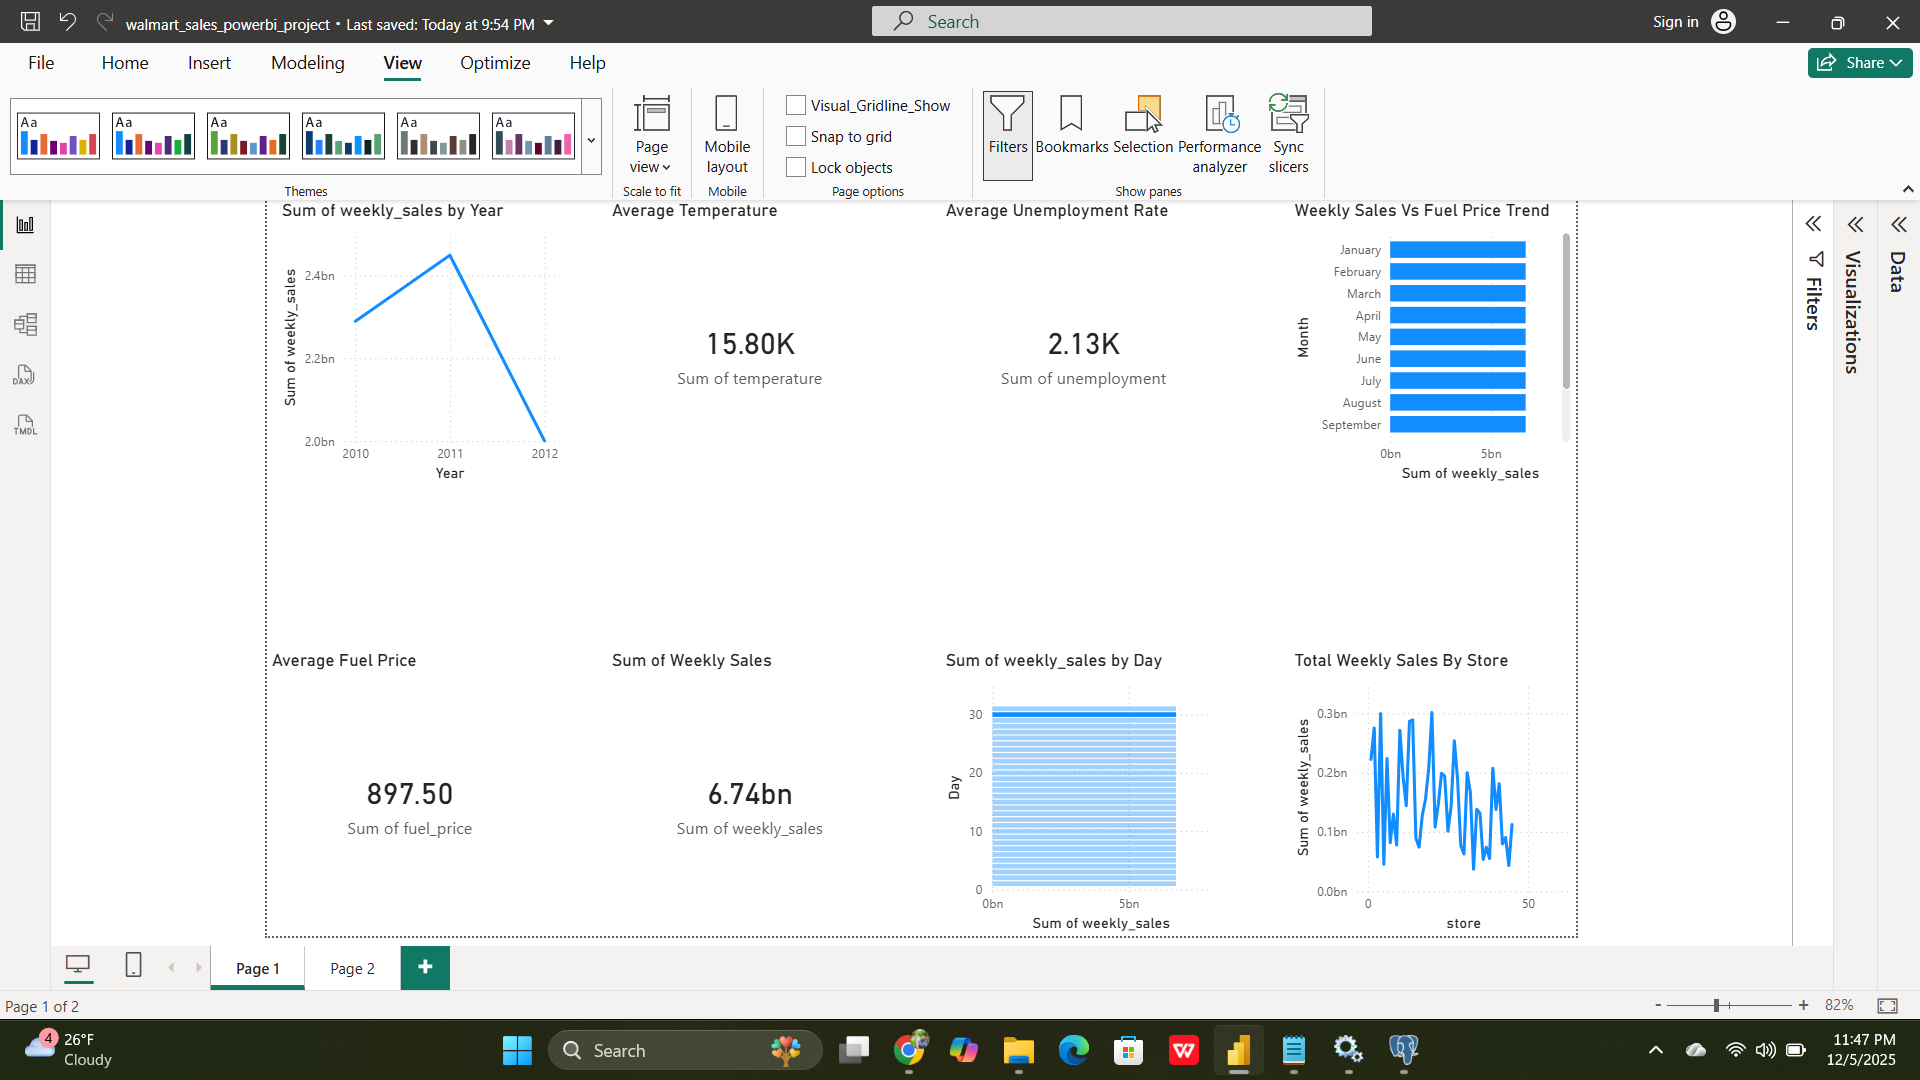

What the dashboard file says about the page in this screenshot:
{"tool":"powerbi","page":{"name":"Page 1","canvas":[1280,720],"ordinal":0},"visuals":[{"type":"lineChart","fields":{"Category":["public vw_sales_enriched.date.Variation.Date Hierarchy.Year","public vw_sales_enriched.date.Variation.Date Hierarchy.Quarter","public vw_sales_enriched.date.Variation.Date Hierarchy.Month","public vw_sales_enriched.date.Variation.Date Hierarchy.Day"],"Y":["Sum(public vw_sales_enriched.weekly_sales)"]},"box":[10,0,280,280],"z":0},{"type":"card","title":"Sum of Weekly Sales","fields":{"Values":["Sum(public vw_sales_enriched.weekly_sales)"]},"box":[9.6,322.5,279.9,279.9],"z":1000},{"type":"card","title":"Average Temperature","fields":{"Values":["Sum(public features.temperature)"]},"box":[300,0,280,280],"z":2000},{"type":"card","title":"Average Fuel Price","fields":{"Values":["Sum(public features.fuel_price)"]},"box":[300,322,280,280],"z":3000},{"type":"card","title":"Average Unemployment Rate","fields":{"Values":["Sum(public features.unemployment)"]},"box":[590,0,280,280],"z":4000},{"type":"lineChart","title":"Total Weekly Sales By Store","fields":{"Category":["public stores.store"],"Y":["Sum(public vw_sales_enriched.weekly_sales)"]},"box":[590,322,280,280],"z":4001},{"type":"barChart","title":"Weekly Sales Vs Fuel Price Trend","fields":{"Category":["public features.date.Variation.Date Hierarchy.Month"],"Y":["Sum(public vw_sales_enriched.weekly_sales)"]},"box":[880,0,280,280],"z":4002},{"type":"barChart","fields":{"Category":["public features.date.Variation.Date Hierarchy.Day"],"Y":["Sum(public vw_sales_enriched.weekly_sales)"]},"box":[880,322,280,280],"z":4003}]}

Visuals, with their boxes on the page's 1280x720 design canvas (x1, y1, x2, y2). These are canvas units, not pixel positions in the 1920x1080 screenshot, which may show the page scaled, cropped or inside an application window:
lineChart - public vw_sales_enriched.date.Variation.Date Hierarchy.Year x public vw_sales_enriched.date.Variation.Date Hierarchy.Quarter: rect(10, 0, 290, 280)
"Sum of Weekly Sales" card: rect(10, 322, 290, 602)
"Average Temperature" card: rect(300, 0, 580, 280)
"Average Fuel Price" card: rect(300, 322, 580, 602)
"Average Unemployment Rate" card: rect(590, 0, 870, 280)
"Total Weekly Sales By Store" lineChart: rect(590, 322, 870, 602)
"Weekly Sales Vs Fuel Price Trend" barChart: rect(880, 0, 1160, 280)
barChart - public features.date.Variation.Date Hierarchy.Day x Sum(public vw_sales_enriched.weekly_sales): rect(880, 322, 1160, 602)
